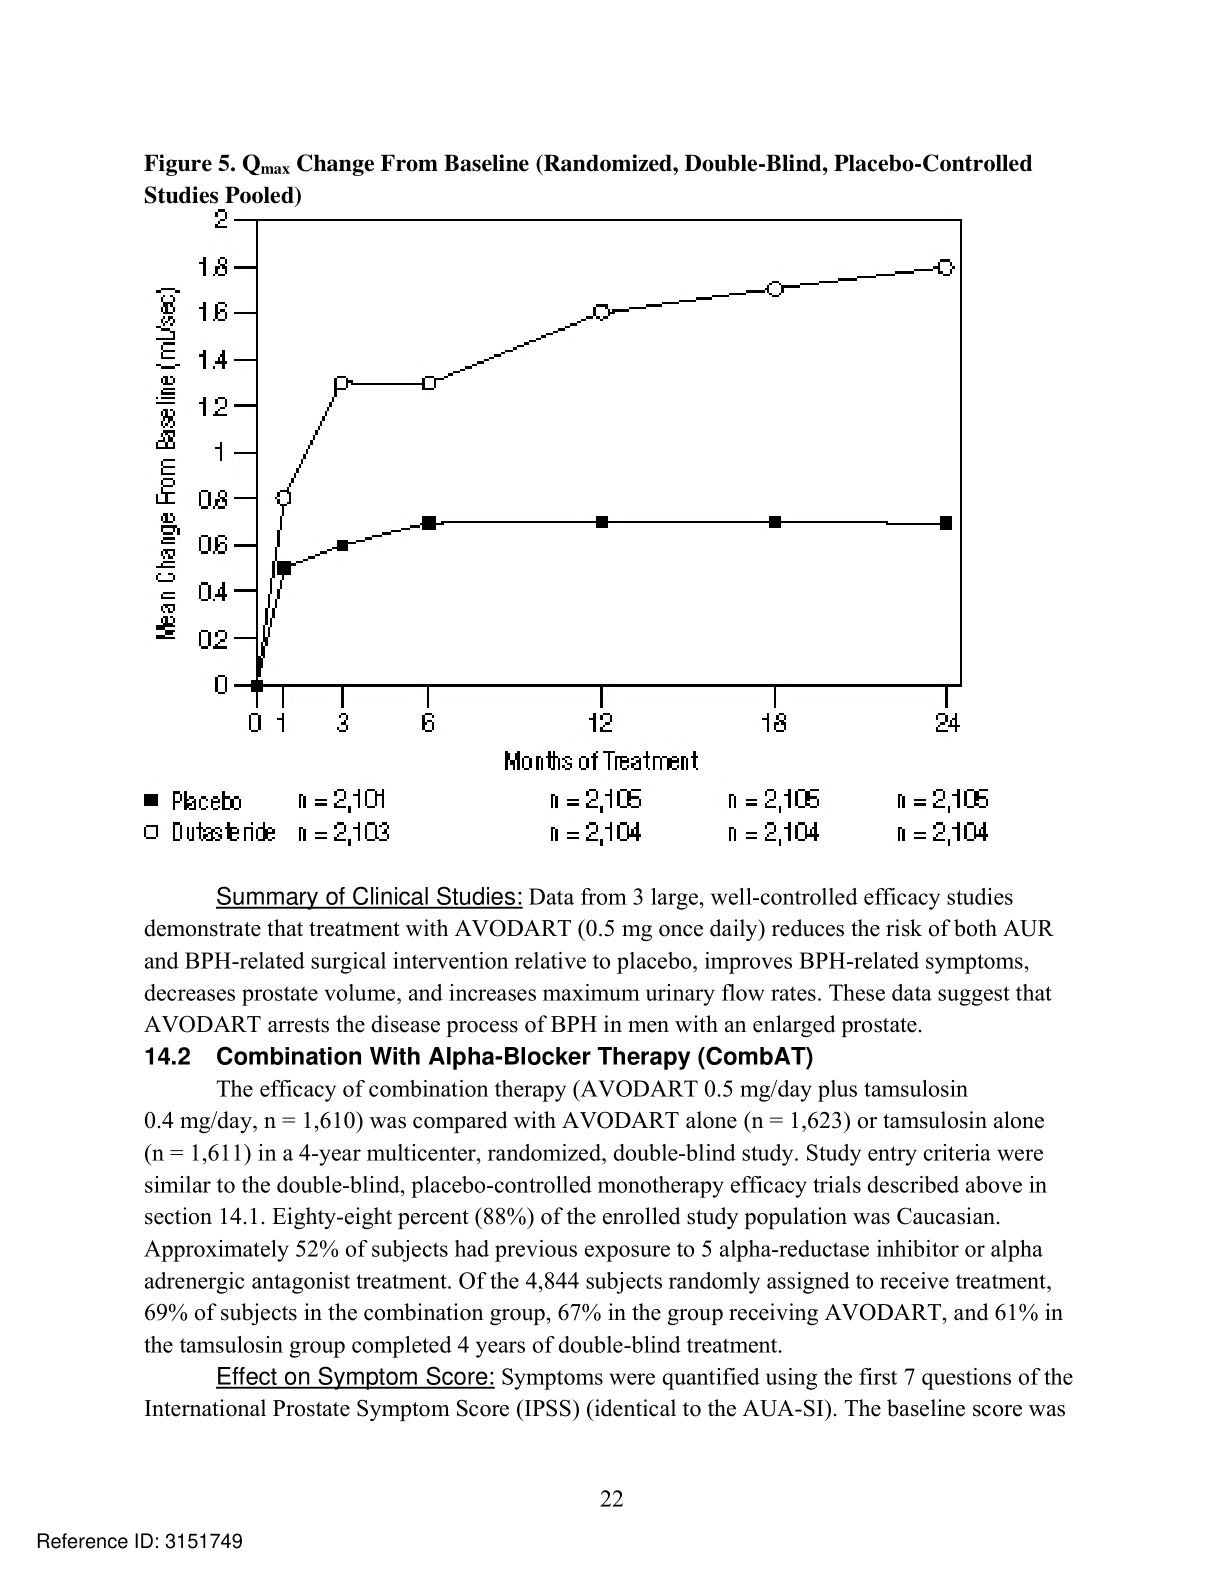nolines: (136, 783, 993, 845)
